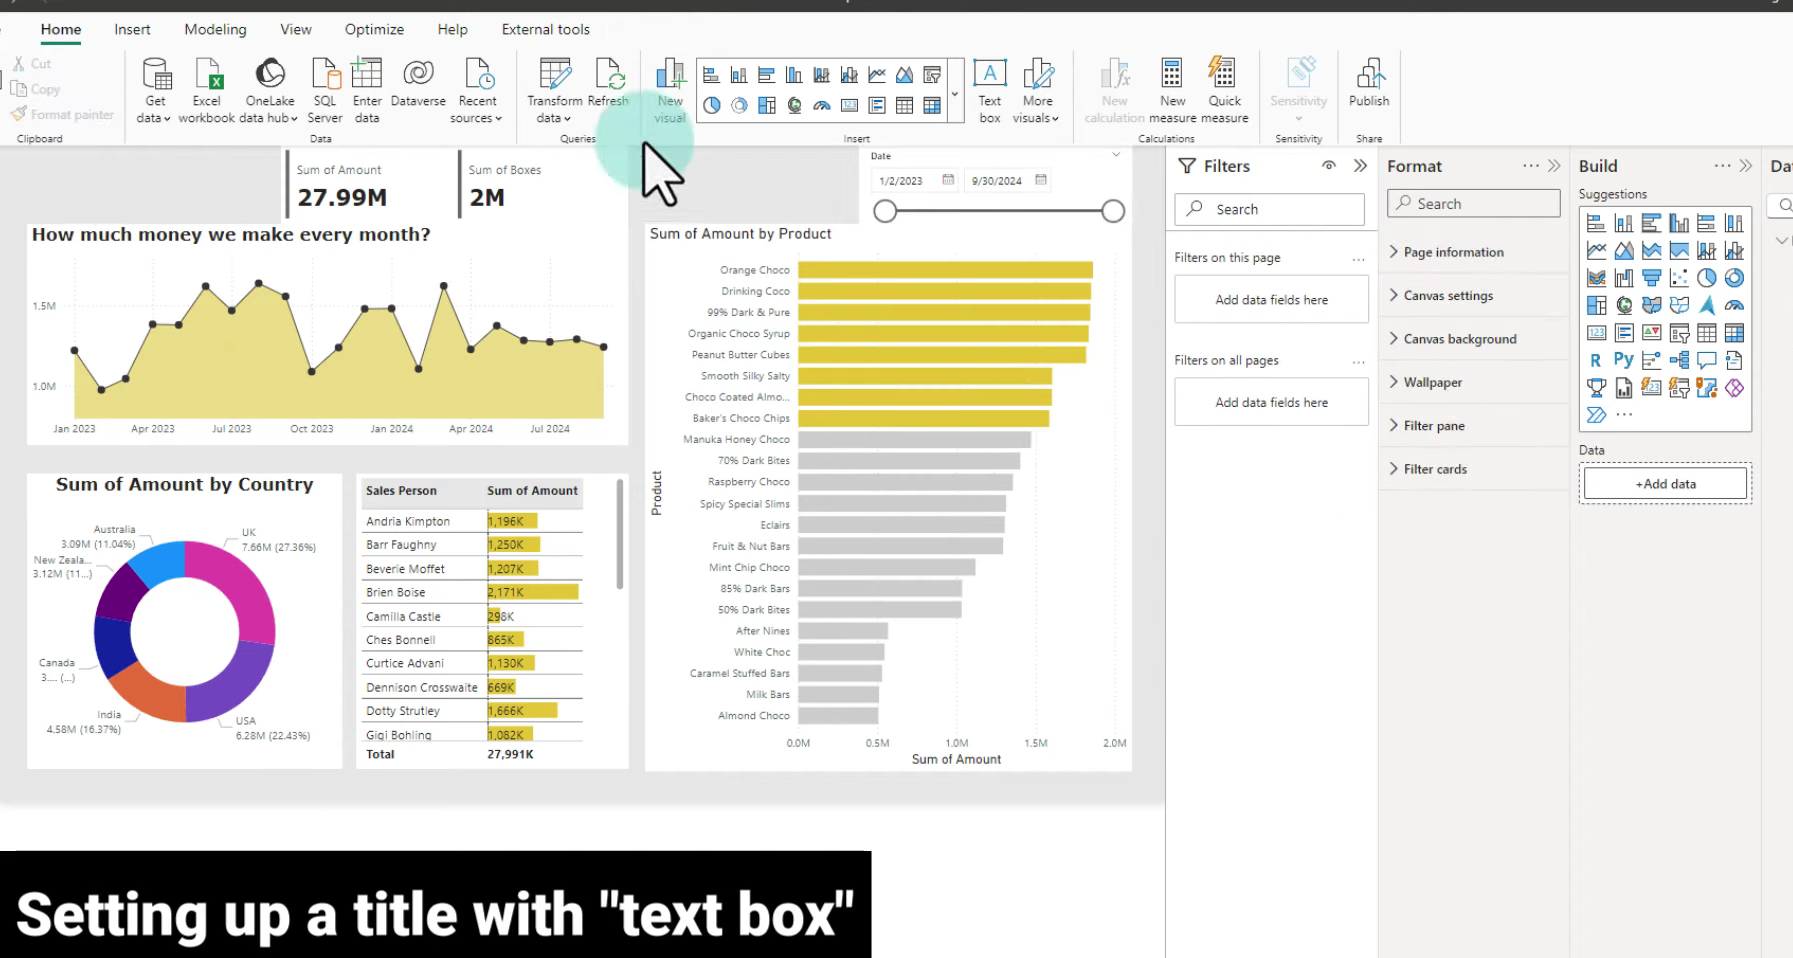

Layout of this report page (visuals, bound fields, positions):
{"tool":"powerbi","page":{"name":"Page 2","canvas":[1280,720],"ordinal":1},"visuals":[{"type":"lineChart","fields":{"Category":["data.Date.Variation.Date Hierarchy.Year","data.Date.Variation.Date Hierarchy.Quarter","data.Date.Variation.Date Hierarchy.Month","data.Date.Variation.Date Hierarchy.Day"],"Y":["Sum(data.Amount)"]},"box":[0,103.8,790,282.5],"z":0},{"type":"donutChart","fields":{"Category":["data.Country"],"Y":["Sum(data.Amount)"]},"box":[18.8,395,405,312.5],"z":1000},{"type":"tableEx","fields":{"Values":["data.Sales Person","Sum(data.Amount)"]},"box":[455,395,335,325],"z":2000},{"type":"clusteredBarChart","fields":{"Category":["data.Product"],"Y":["Sum(data.Amount)"]},"box":[808.8,103.8,471.2,616.2],"z":3000},{"type":"cardVisual","fields":{"Data":["Sum(data.Amount)","Sum(data.Boxes)"]},"box":[346.2,0,443.8,103.8],"z":4000},{"type":"slicer","fields":{"Values":["data.Date"]},"box":[808.8,5,471.2,90],"z":5000},{"type":"textbox","box":[8.8,5,327.5,63.8],"z":6000}]}

Visuals, with their boxes on the page's 1280x720 design canvas (x1, y1, x2, y2). These are canvas units, not pixel positions in the 1793x958 screenshot, which may show the page scaled, cropped or inside an application window:
lineChart - data.Date.Variation.Date Hierarchy.Year x data.Date.Variation.Date Hierarchy.Quarter: l=0, t=104, r=790, b=386
donutChart - data.Country x Sum(data.Amount): l=19, t=395, r=424, b=708
tableEx - data.Sales Person x Sum(data.Amount): l=455, t=395, r=790, b=720
clusteredBarChart - data.Product x Sum(data.Amount): l=809, t=104, r=1280, b=720
cardVisual - Sum(data.Amount) x Sum(data.Boxes): l=346, t=0, r=790, b=104
slicer - data.Date: l=809, t=5, r=1280, b=95
textbox: l=9, t=5, r=336, b=69
